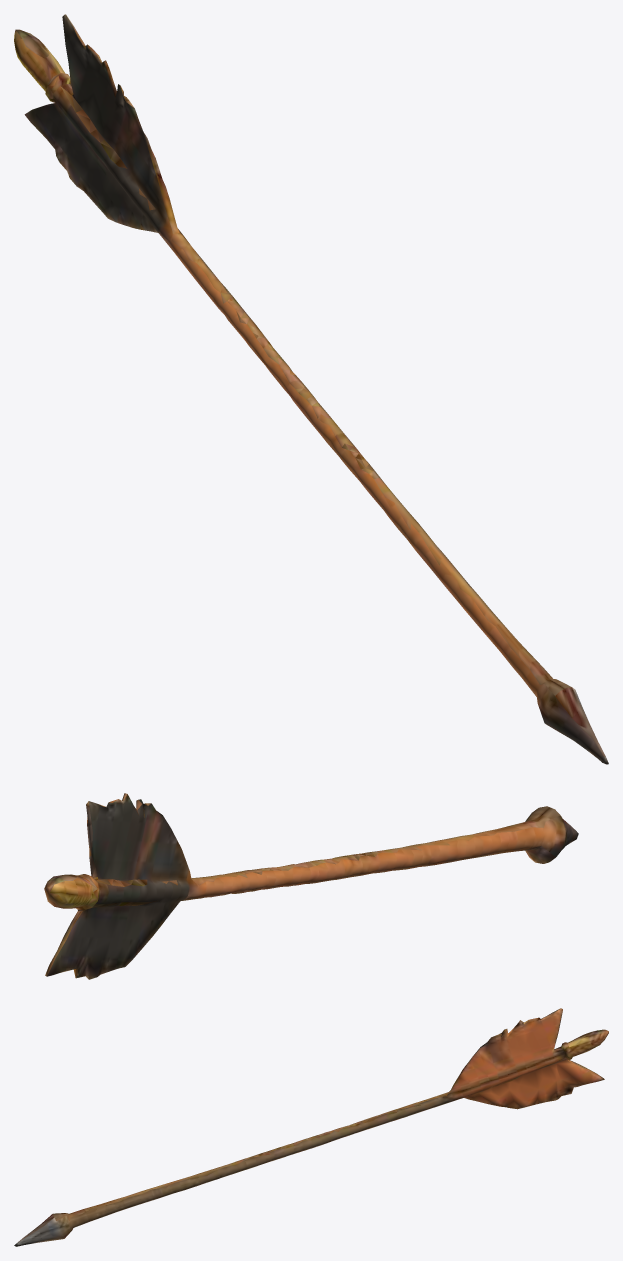
File: arrow.glb
The picture shows the model from 3 angles, top to bottom: view 1: azimuth 30°, elevation 25°; view 2: azimuth 150°, elevation 25°; view 3: azimuth 270°, elevation 25°; orthographic projection. The views are drawn at different scales.
Parts seen in each view (by area): view 1: Mesh_0; view 2: Mesh_0; view 3: Mesh_0.
Part boxes in pixels (x1,y1,x2,y2): Mesh_0: (14,14,608,764); Mesh_0: (44,793,578,979); Mesh_0: (14,1008,608,1246).
Size of the model in its own units: 0.1399 by 0.7004 by 1.68.
1 material, 1 textured.
